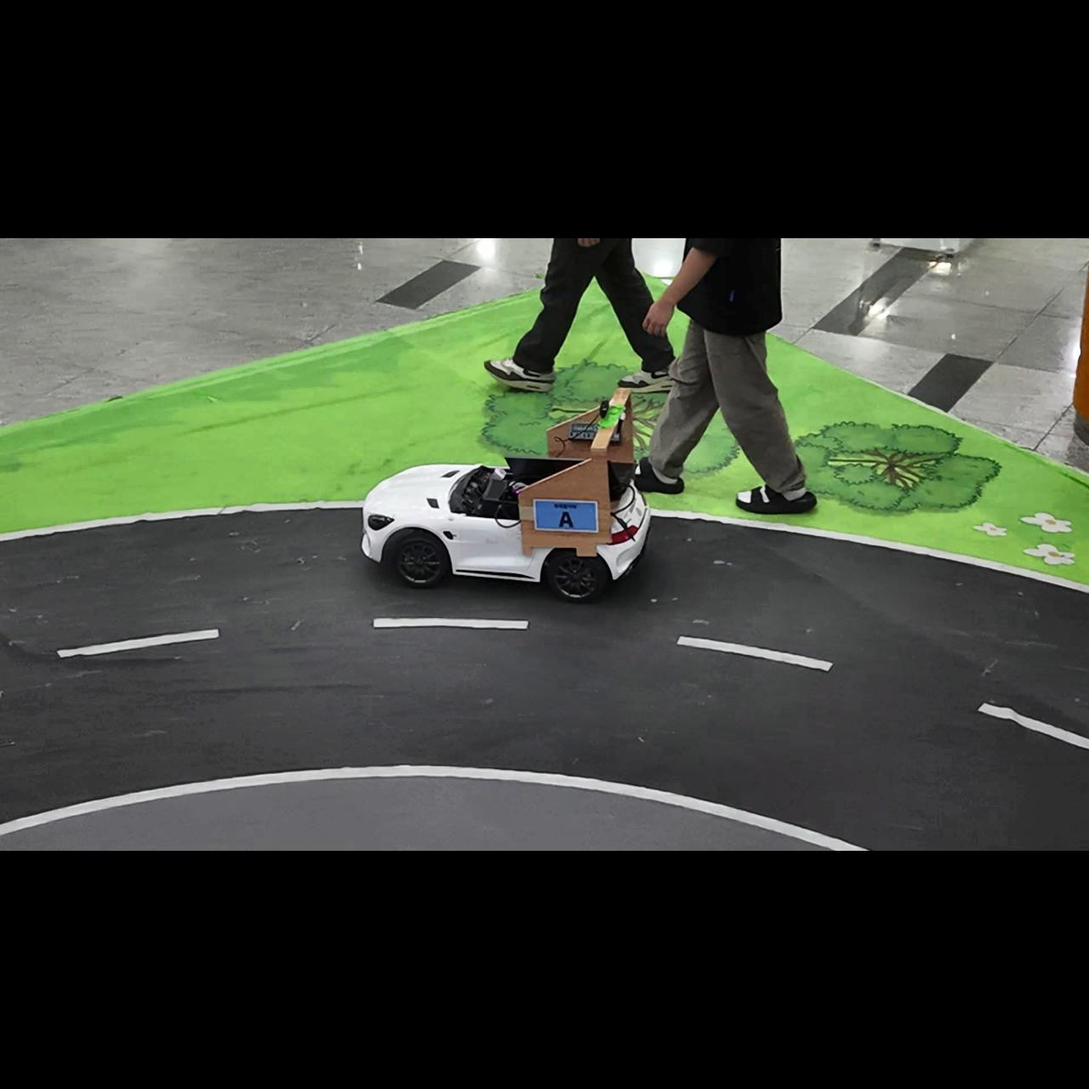broken_line: (676, 636, 833, 672), (977, 702, 1088, 749), (56, 628, 220, 658), (373, 617, 529, 629)
